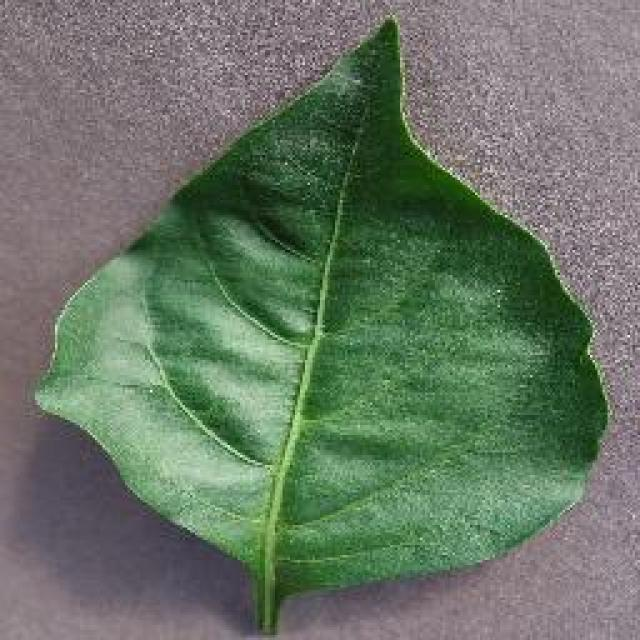Chilli_Healthy: (30, 13, 610, 635)
